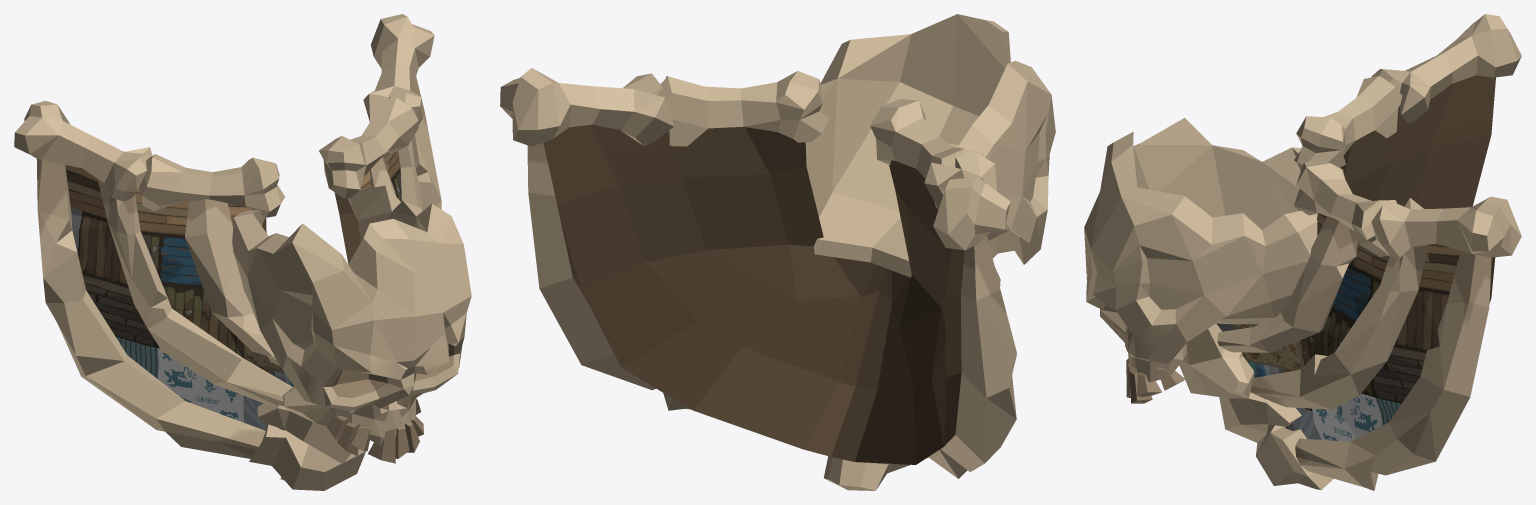
File: SM_Veh_Ship_M_Figurehead_04.fbx
The picture shows the model from 3 angles, left to right: view 1: azimuth 30°, elevation 25°; view 2: azimuth 150°, elevation 25°; view 3: azimuth 270°, elevation 25°; orthographic projection. The views are drawn at different scales.
Parts seen in each view (by area): view 1: SM_Veh_Ship_M_Figurehead_04; view 2: SM_Veh_Ship_M_Figurehead_04; view 3: SM_Veh_Ship_M_Figurehead_04.
Boxes of the visible parts, bbox=[...] form: SM_Veh_Ship_M_Figurehead_04: bbox=[14, 14, 471, 490]; SM_Veh_Ship_M_Figurehead_04: bbox=[500, 14, 1055, 490]; SM_Veh_Ship_M_Figurehead_04: bbox=[1084, 14, 1521, 490].
Size of the model in its own units: 521 by 432 by 454.
